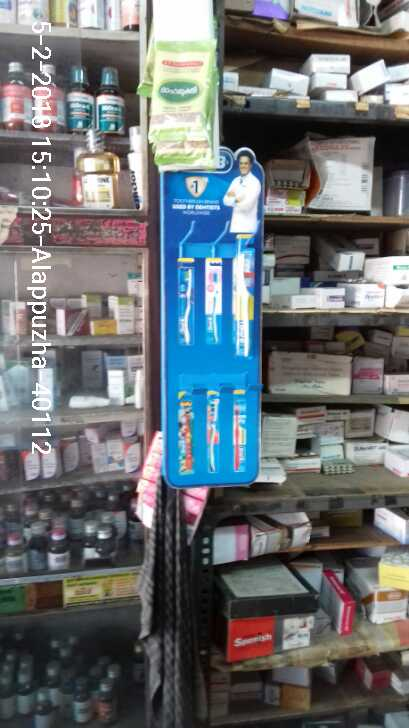oralb: (234, 245, 258, 361)
